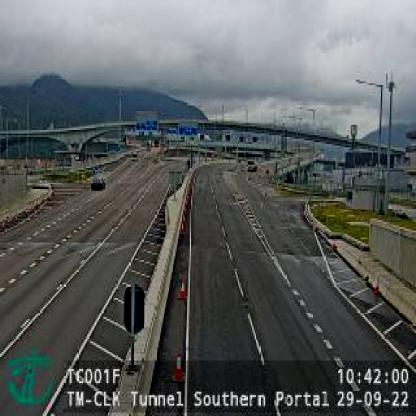Car: (90, 173, 105, 189)
